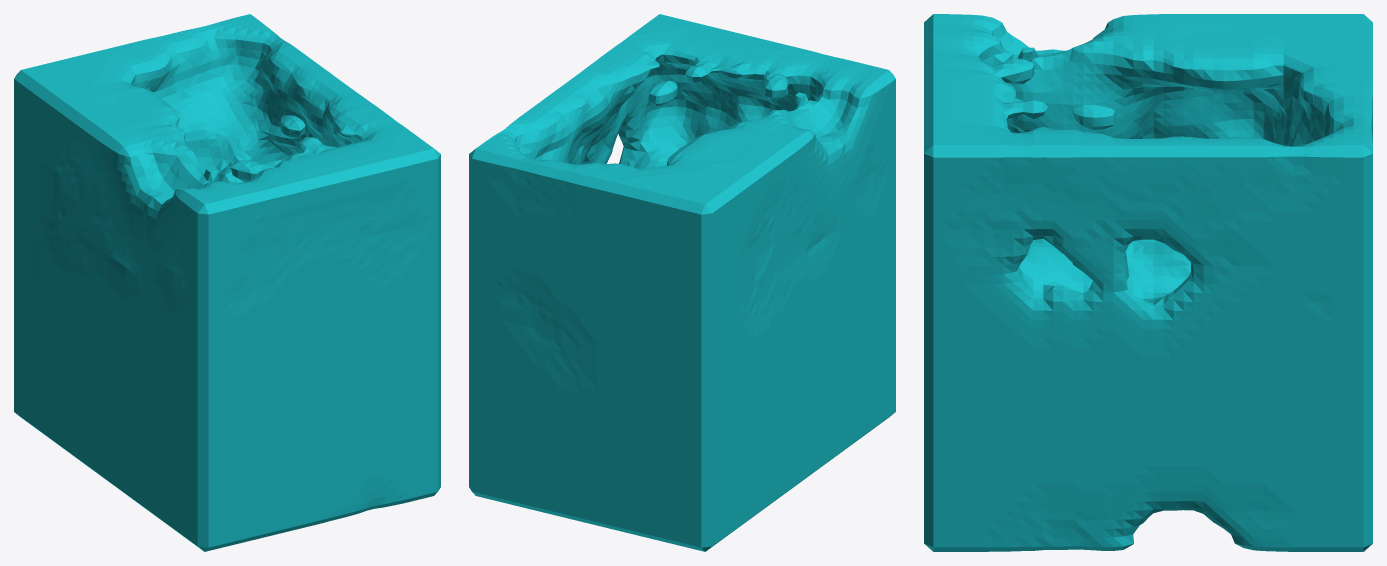
3 renders of one model, left to right at view 1: azimuth 30°, elevation 25°; view 2: azimuth 150°, elevation 25°; view 3: azimuth 270°, elevation 25°, orthographic. The views are drawn at different scales.
Visible parts, largest first — view 1: Liquid_Domain; view 2: Liquid_Domain; view 3: Liquid_Domain.
Part boxes in pixels (bbox=[...]): Liquid_Domain: bbox=[14, 14, 440, 551]; Liquid_Domain: bbox=[469, 14, 895, 551]; Liquid_Domain: bbox=[924, 14, 1372, 551].
Size of the model in its own units: 79.09 by 108 by 108.
